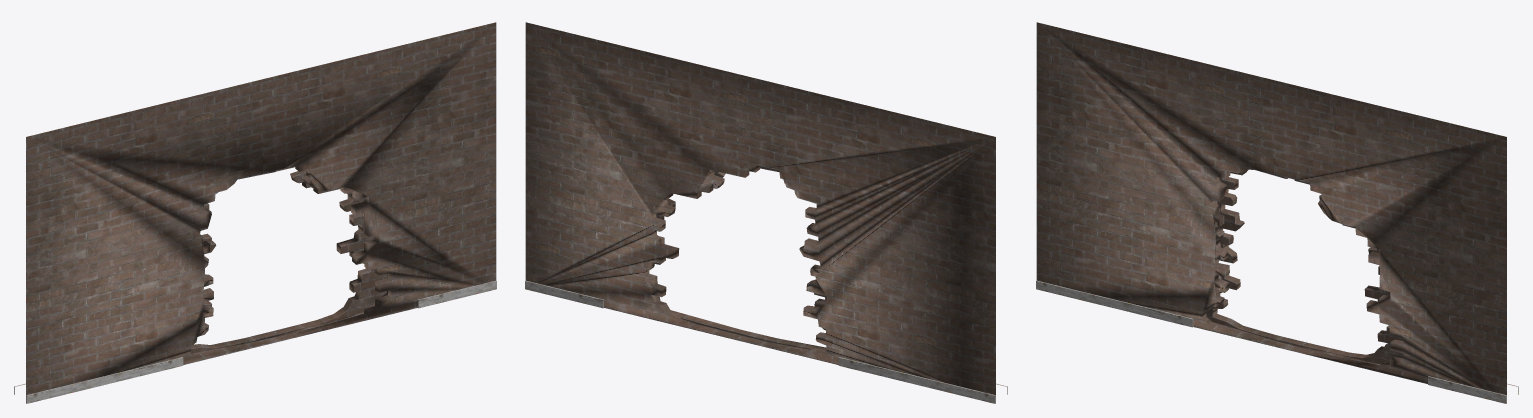
Rendered from mh_wall_600_b.glb.
3 views of the same model, side by side, from view 1: azimuth 30°, elevation 25°; view 2: azimuth 150°, elevation 25°; view 3: azimuth 330°, elevation 25° (orthographic).
Visible parts, largest first — view 1: mh_wall_600_b_LOD0; view 2: mh_wall_600_b_LOD0; view 3: mh_wall_600_b_LOD0.
Part boxes in pixels (box(x1,y1,x2,y2)): mh_wall_600_b_LOD0: box(14, 22, 496, 403); mh_wall_600_b_LOD0: box(525, 22, 1007, 403); mh_wall_600_b_LOD0: box(1036, 22, 1518, 403).
Size of the model in its own units: 6 by 3.25 by 0.2802.
Materials: 2 (2 with a texture image).
